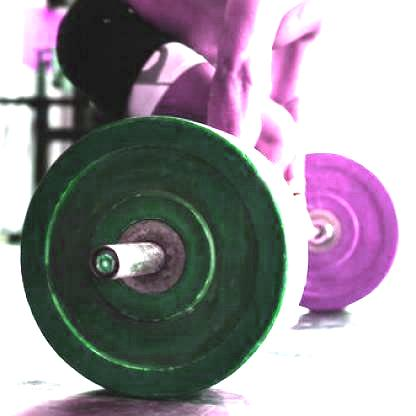Barbell: (81, 237, 128, 282)
